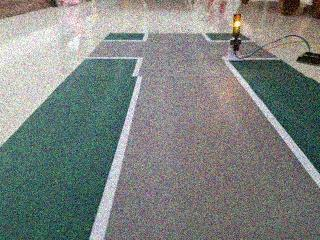yellow: (227, 8, 248, 40)
